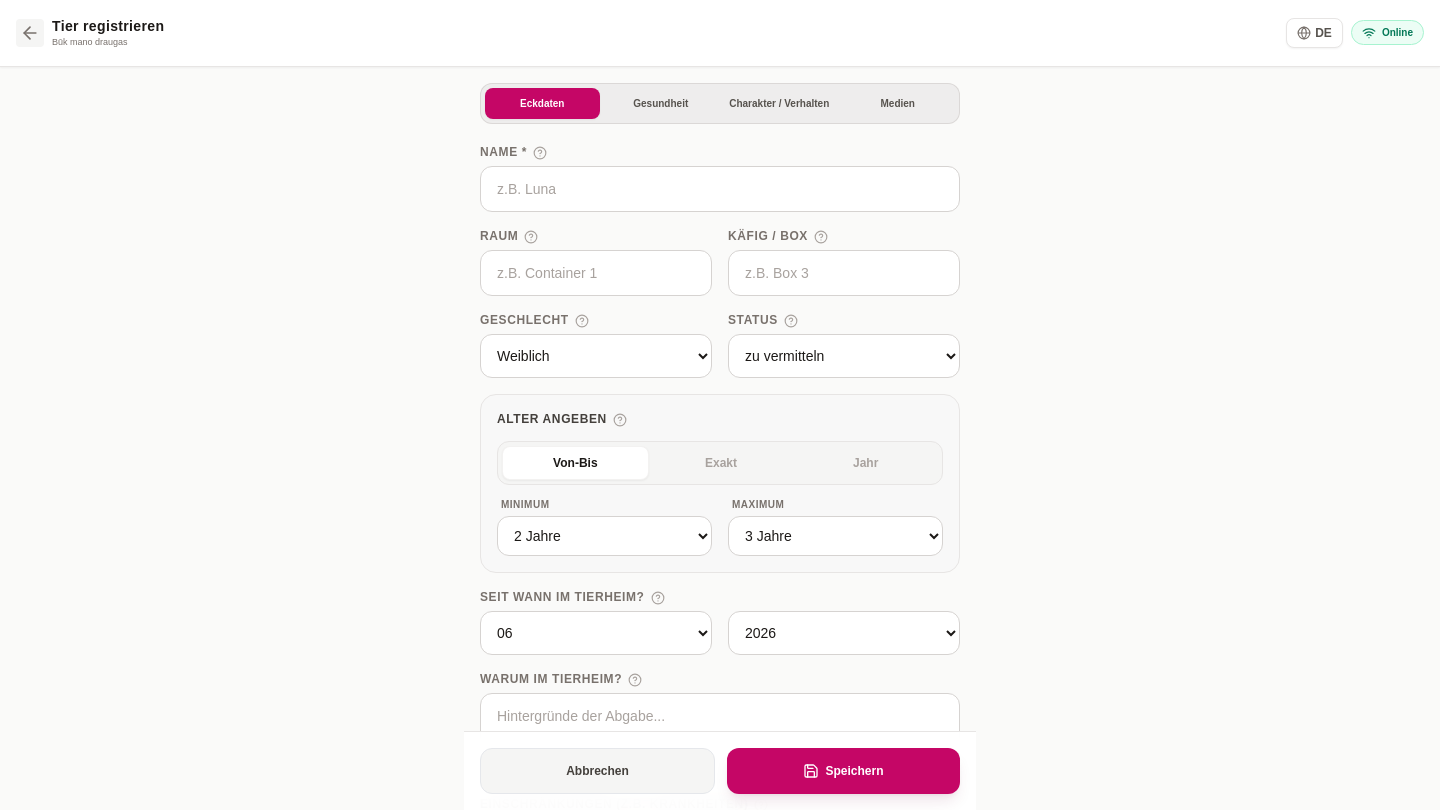
Scenario: CreateCatPage Validation, Multilingual, Offline & Edge Cases › Multi-Audio UI: displays empty audio state and registers/lists recorded voice notes
The width and height of the screenshot is (1440, 810).
// Switch to media tab
Step 1. Click the button "Medien" → (898, 103), box [840, 88, 955, 118]
(page scrolled)
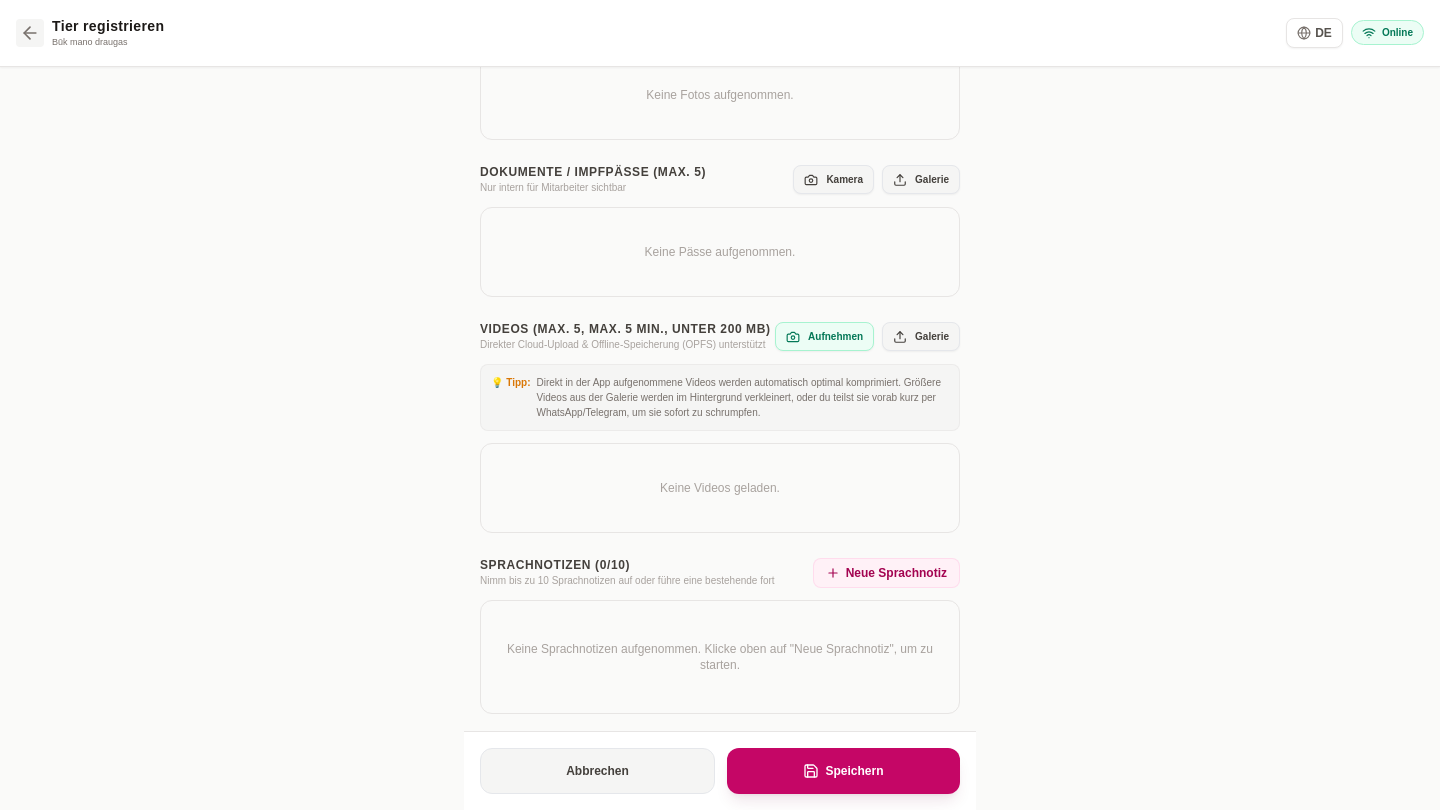
Now the text "Keine Sprachnotizen aufgenommen" is shown, box [507, 642, 933, 672]
Now the button "Neue Sprachnotiz" is shown
// Click to start recording
Step 2. Click the button "Neue Sprachnotiz" → (886, 573), box [813, 558, 960, 588]
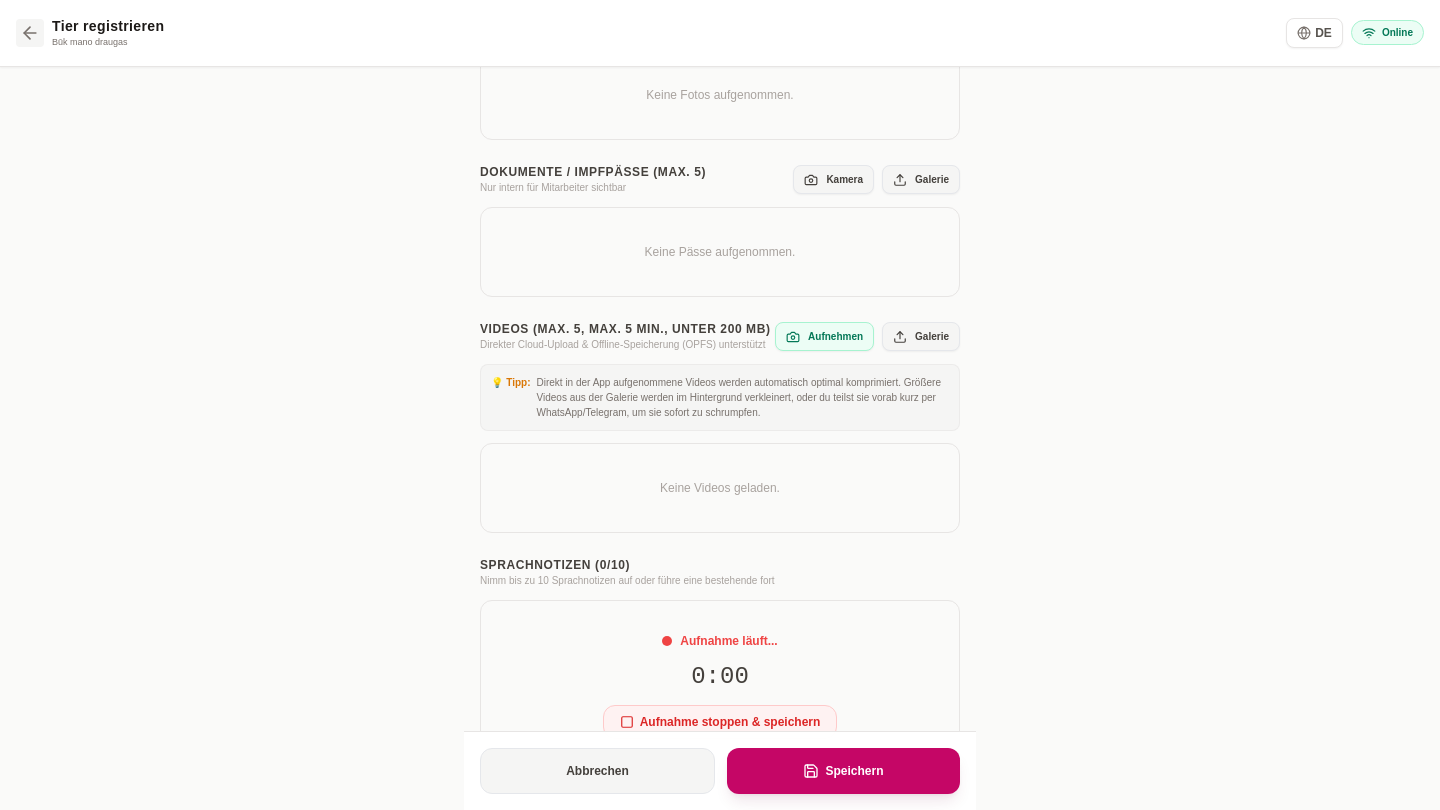
Now the text "Aufnahme läuft..." is shown, box [680, 633, 778, 649]
Now the button "Aufnahme stoppen & speichern" is shown
// Stop recording
Step 3. Click the button "Aufnahme stoppen & speichern" → (720, 722), box [603, 705, 837, 739]
(page scrolled)
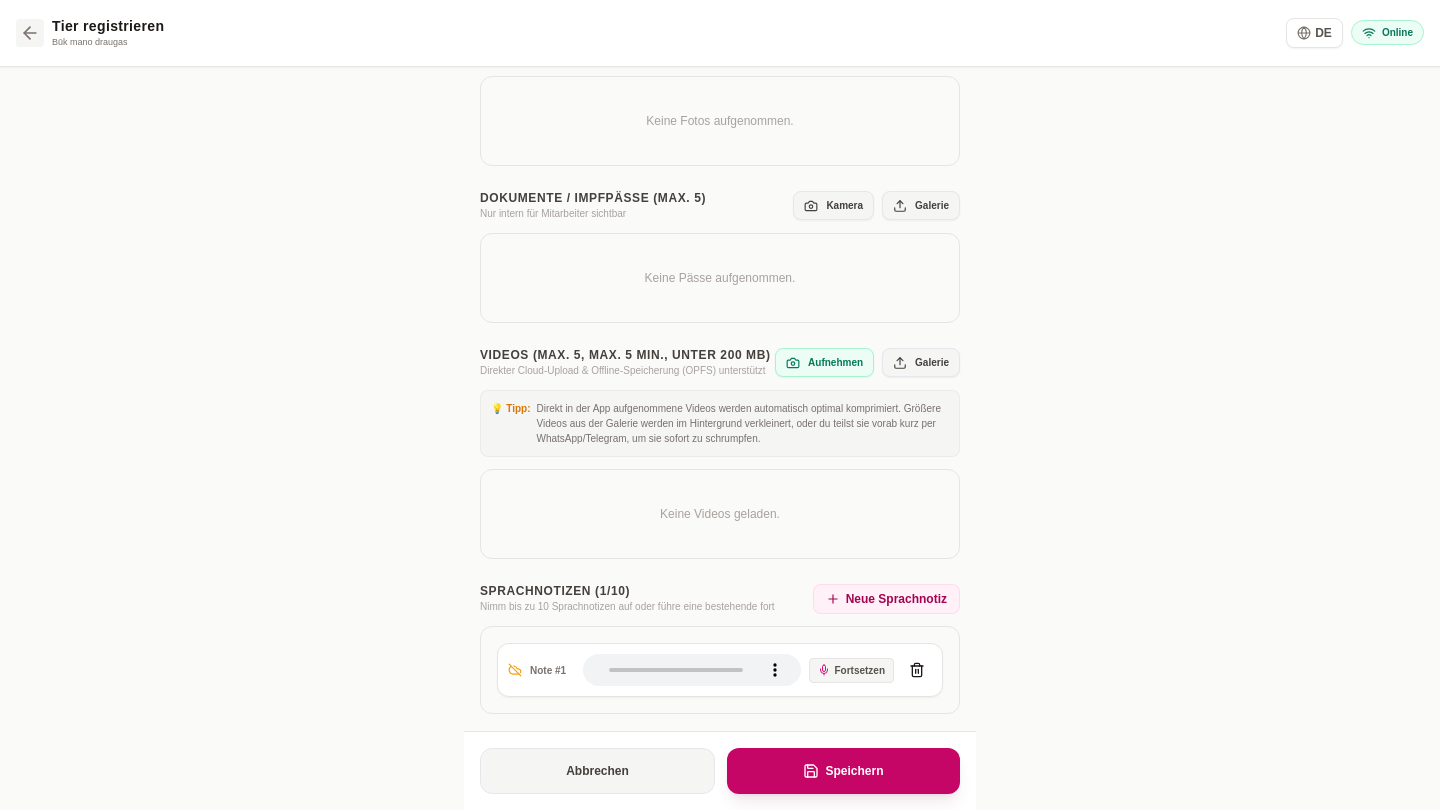
Now the text "Note #1" is shown, box [530, 665, 566, 676]
Now the button titled "Diese Sprachnotiz fortsetzen" is shown, box [809, 658, 894, 683]
Now the button titled "Löschen" is shown, box [902, 655, 932, 685]
